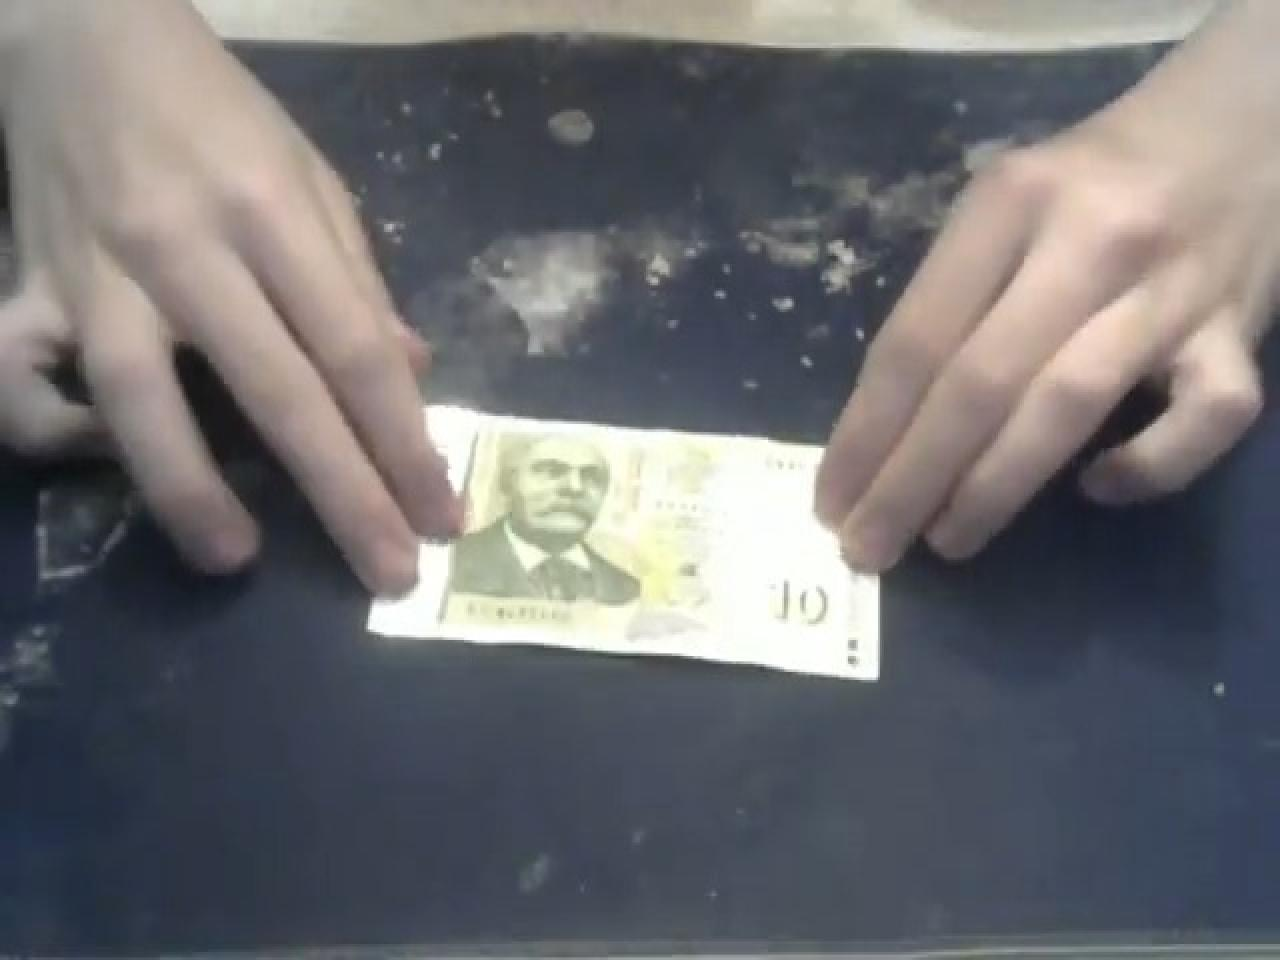10leva: (364, 408, 884, 688)
